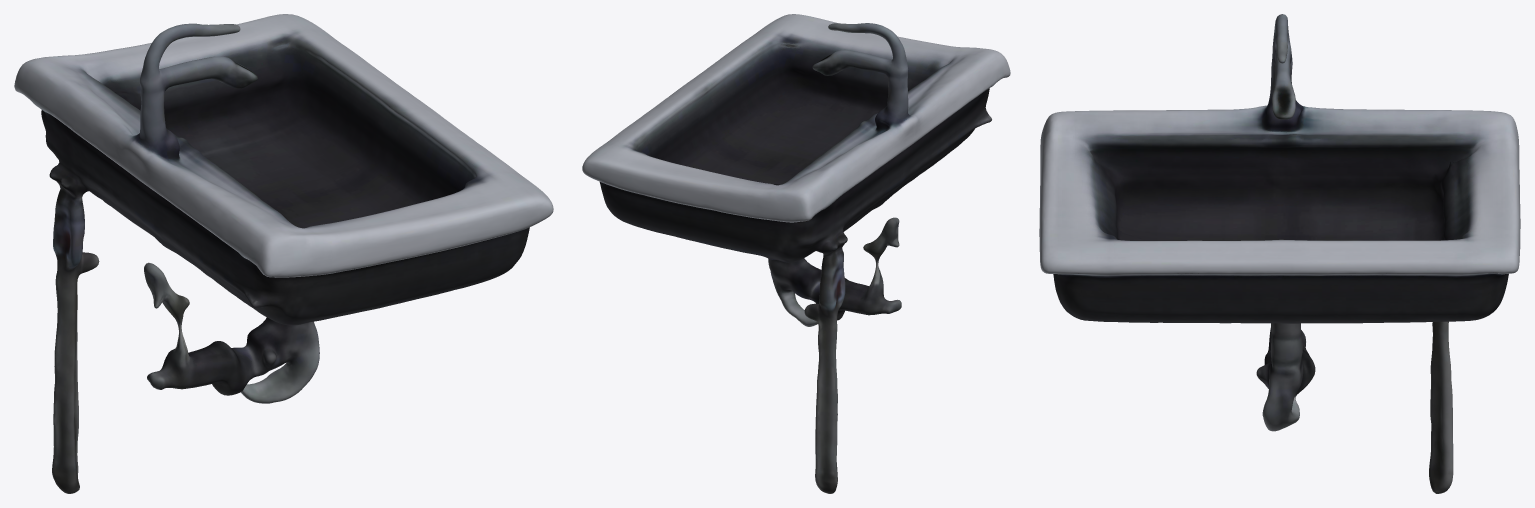
File: 220216f7bc6d_school_wash_basin__.obj
3 renders of one model, left to right at view 1: azimuth 30°, elevation 25°; view 2: azimuth 150°, elevation 25°; view 3: azimuth 270°, elevation 25°, orthographic. The views are drawn at different scales.
Parts seen in each view (by area): view 1: high_poly; view 2: high_poly; view 3: high_poly.
Boxes of the visible parts, left/top/right/bottom form: high_poly: left=14, top=14, right=553, bottom=493; high_poly: left=582, top=14, right=1010, bottom=493; high_poly: left=1039, top=14, right=1520, bottom=493.
Bounding box in the file's own units: 0.5926 × 1 × 0.8984.
Materials: 1 (1 with a texture image).
